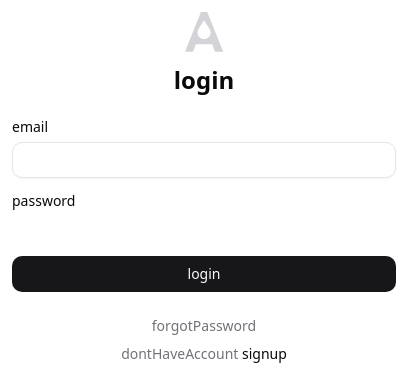
it: LoginForm › switches to reset mode and hides password field
The width and height of the screenshot is (413, 380).
Click the button "forgotPassword". click: (204, 326)
box: [152,316,256,336]
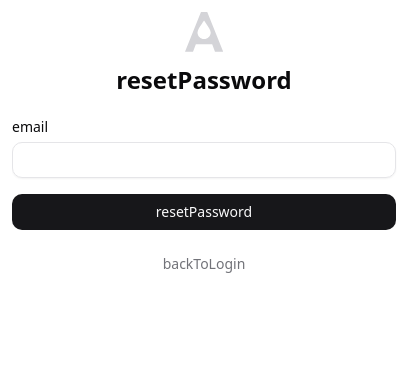
Check: the heading "resetPassword" is shown, box [116,64,292,96]
